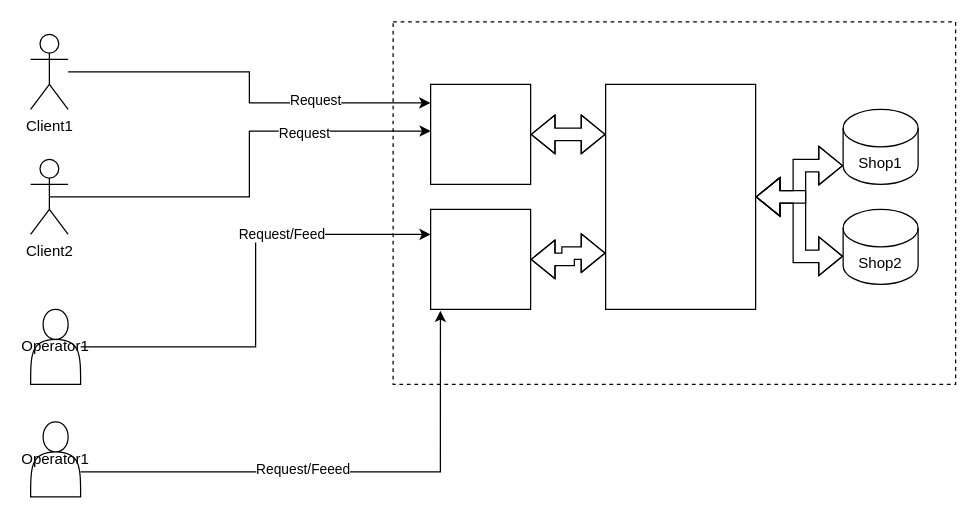
Some shapes in this 978 by 519 pixel diagram are drawn without their labels. Here are the shapes that lost their labels. From the top down, the box of each, then its label:
(429, 83, 531, 184): TCP Server Port 1
(604, 83, 756, 309): Meta data server
(429, 208, 531, 309): TCP Server Port2
